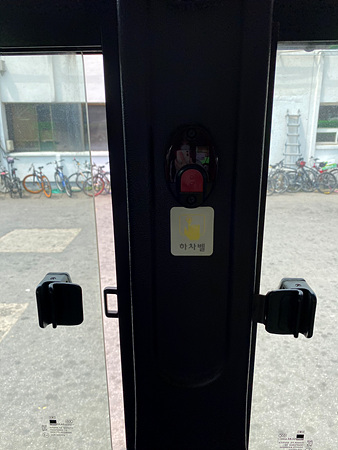bell: (166, 134, 218, 209)
